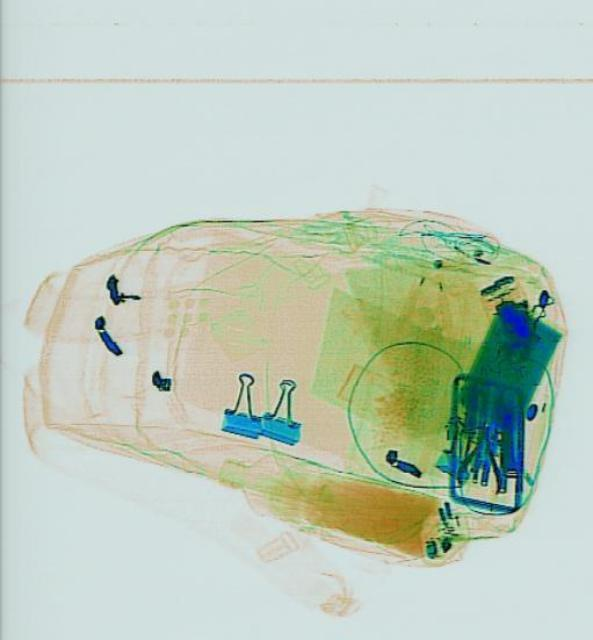Pliers: (453, 412, 508, 492)
